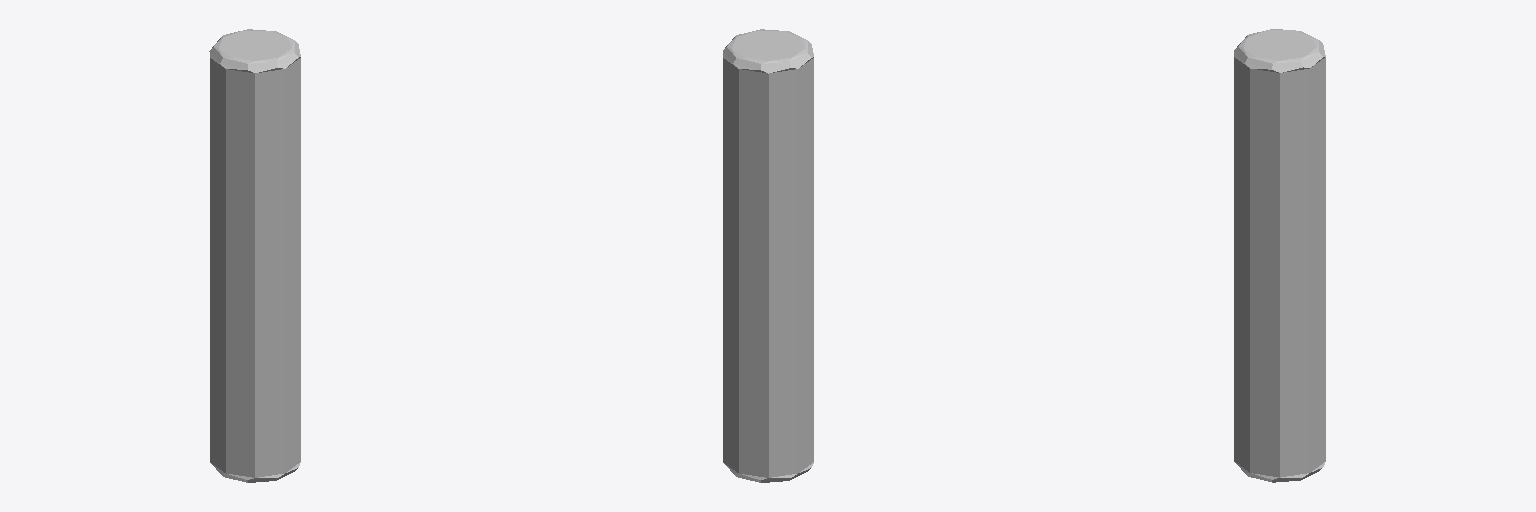
File: 76. Стопор.obj
3 views of the same model, side by side, from view 1: azimuth 30°, elevation 25°; view 2: azimuth 150°, elevation 25°; view 3: azimuth 270°, elevation 25° (orthographic).
Visible parts, largest first — view 1: Твердое тело1; view 2: Твердое тело1; view 3: Твердое тело1.
Boxes of the visible parts, <box> form: Твердое тело1: <box>209,29,300,482</box>; Твердое тело1: <box>723,29,813,482</box>; Твердое тело1: <box>1234,29,1325,482</box>.
Bounding box in the file's own units: 4.93 × 25 × 4.93.